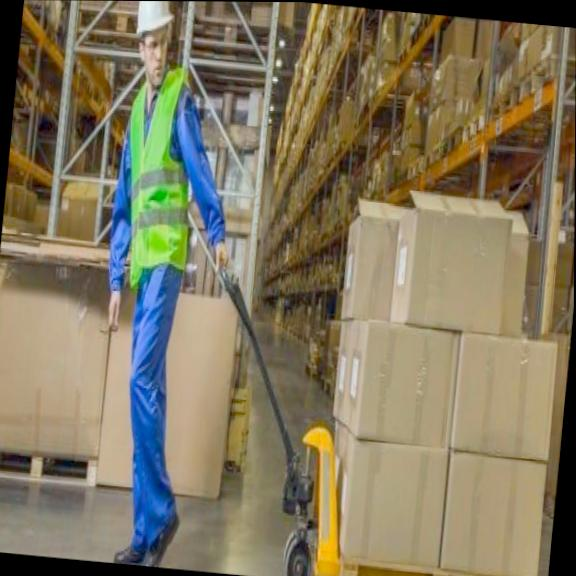safety_vest: (107, 58, 225, 293)
